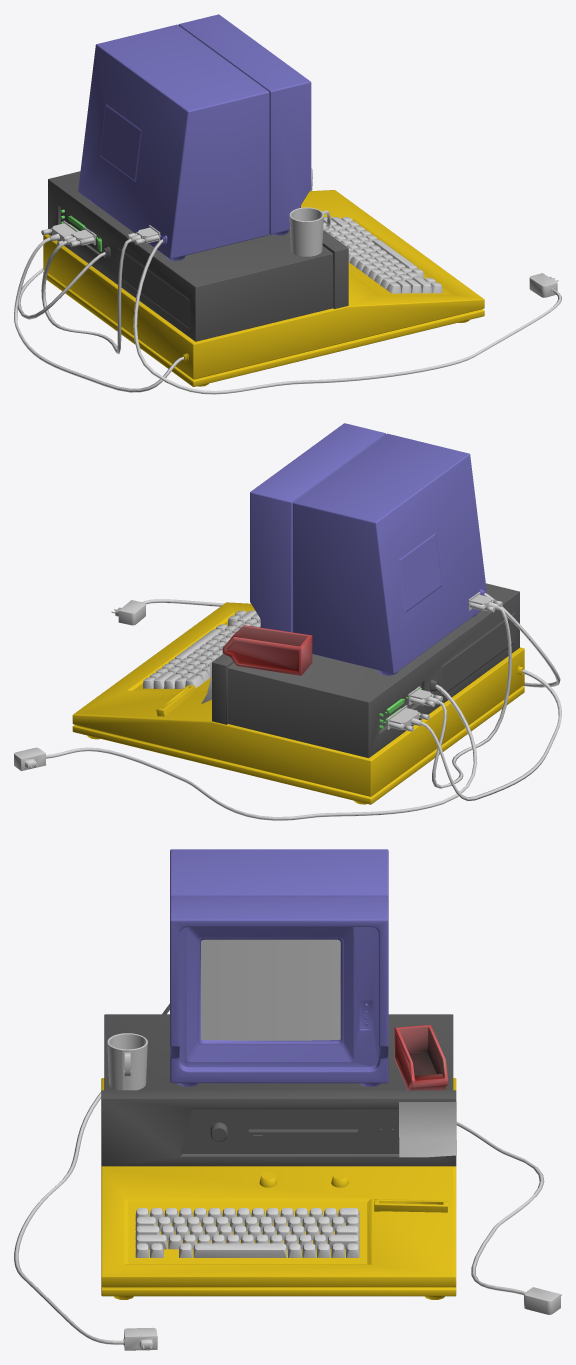
Rendered from computer.fbx.
3 views of the same model, one above another, from view 1: azimuth 30°, elevation 25°; view 2: azimuth 150°, elevation 25°; view 3: azimuth 270°, elevation 25° (orthographic). The views are drawn at different scales.
Visible parts, largest first — view 1: Computer, Keyboard, Fio4, Fio2, Fio1, Copo, Fio3, Cube.001; view 2: Computer, Container, Keyboard, Fio3, Fio2, Fio1, Fio4, Cube.000, Cube.001; view 3: Computer, Tela, Keyboard, Bilhete, Container, Copo, Fio4, Fio3, Cube.000, Cube.001.
Boxes of the visible parts, bbox=[...] form: Computer: bbox=[43, 14, 484, 386]; Keyboard: bbox=[323, 217, 442, 293]; Fio4: bbox=[133, 239, 561, 394]; Fio2: bbox=[41, 225, 160, 353]; Fio1: bbox=[14, 220, 184, 392]; Copo: bbox=[289, 207, 330, 256]; Fio3: bbox=[18, 252, 105, 319]; Cube.001: bbox=[529, 273, 558, 297]; Computer: bbox=[72, 423, 524, 804]; Container: bbox=[222, 625, 312, 675]; Keyboard: bbox=[143, 610, 260, 688]; Fio3: bbox=[46, 684, 477, 820]; Fio2: bbox=[408, 592, 511, 788]; Fio1: bbox=[387, 669, 561, 800]; Fio4: bbox=[142, 593, 560, 687]; Cube.000: bbox=[14, 747, 45, 770]; Cube.001: bbox=[111, 600, 145, 625]; Computer: bbox=[101, 849, 456, 1299]; Tela: bbox=[201, 939, 340, 1040]; Keyboard: bbox=[135, 1208, 359, 1257]; Bilhete: bbox=[399, 1102, 456, 1157]; Container: bbox=[394, 1025, 448, 1090]; Copo: bbox=[107, 1033, 147, 1090]; Fio4: bbox=[14, 1003, 169, 1344]; Fio3: bbox=[456, 1121, 544, 1295]; Cube.000: bbox=[524, 1287, 561, 1314]; Cube.001: bbox=[123, 1327, 157, 1350].
Bounding box in the file's own units: 270 × 142 × 234.
